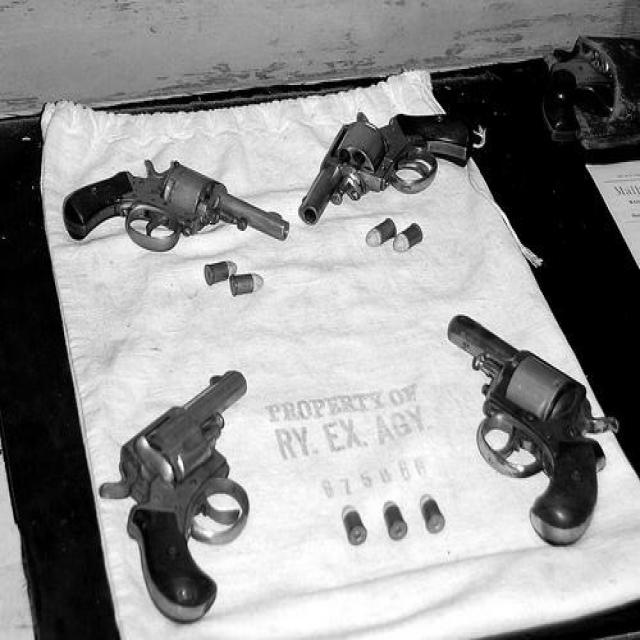gun: (444, 314, 622, 543), (97, 372, 246, 622), (63, 159, 289, 250), (299, 110, 476, 223), (546, 43, 639, 138)
